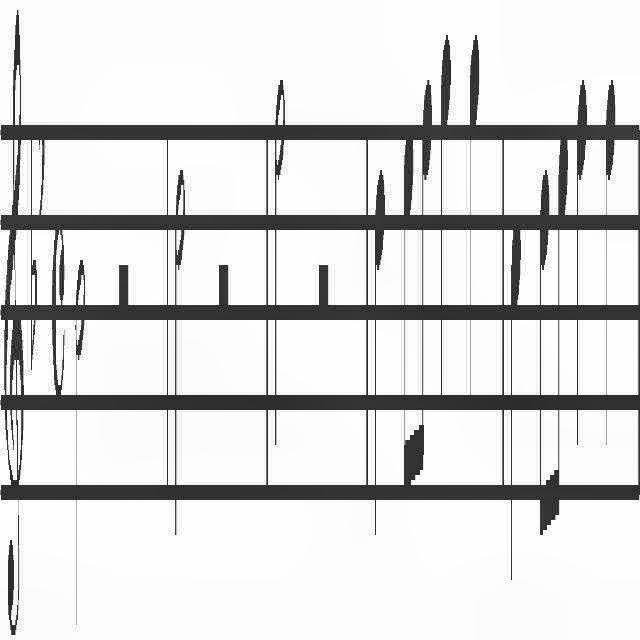Bass-clef: (3, 0, 25, 638)
Bemol: (30, 115, 38, 381), (38, 0, 46, 224)
Eighth-note: (551, 126, 569, 562), (416, 70, 432, 492), (538, 154, 550, 566), (402, 112, 414, 508)
Half-note: (173, 158, 187, 562), (274, 66, 286, 462), (74, 245, 86, 640)
Quarter-note: (374, 146, 386, 558), (468, 19, 480, 423), (576, 66, 588, 470), (604, 73, 616, 473), (439, 31, 451, 423), (510, 204, 522, 596)
